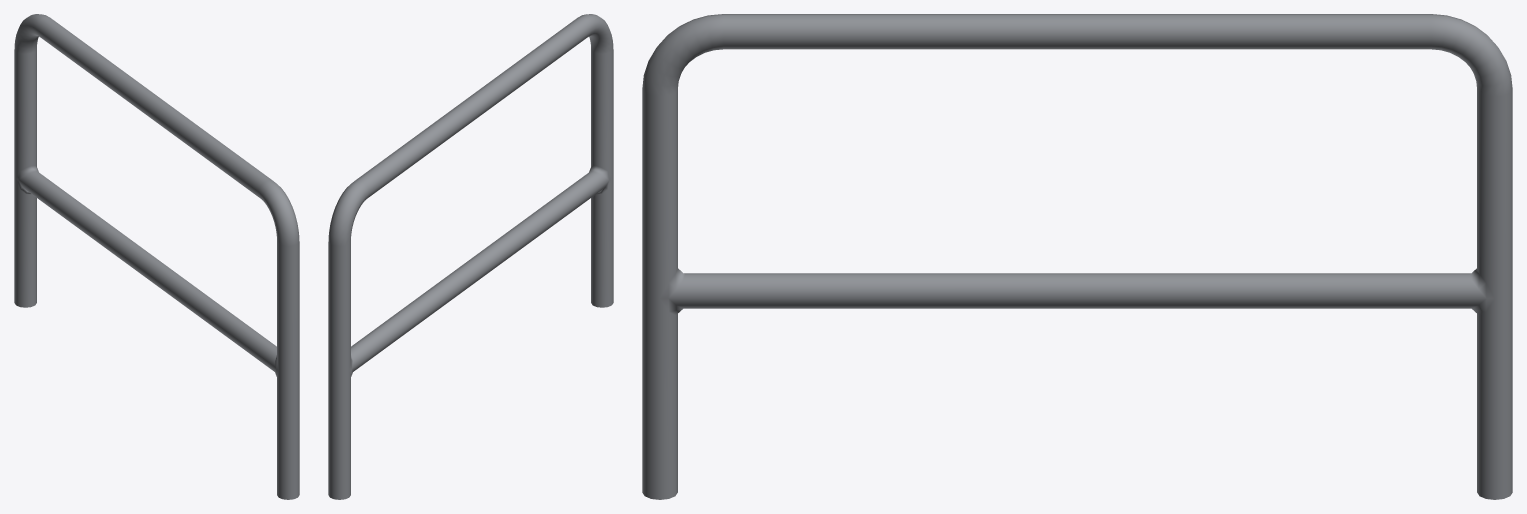
Rendered from sm_Railing_A_00.fbx.
The picture shows the model from 3 angles, left to right: view 1: azimuth 30°, elevation 25°; view 2: azimuth 150°, elevation 25°; view 3: azimuth 270°, elevation 25°; orthographic projection. The views are drawn at different scales.
Visible parts, largest first — view 1: Railing_A_00; view 2: Railing_A_00; view 3: Railing_A_00.
Boxes of the visible parts, box(x1,y1,x2,y2) form: Railing_A_00: box(14, 14, 299, 499); Railing_A_00: box(328, 14, 613, 499); Railing_A_00: box(642, 14, 1512, 499).
Size of the model in its own units: 196 by 118 by 8.
